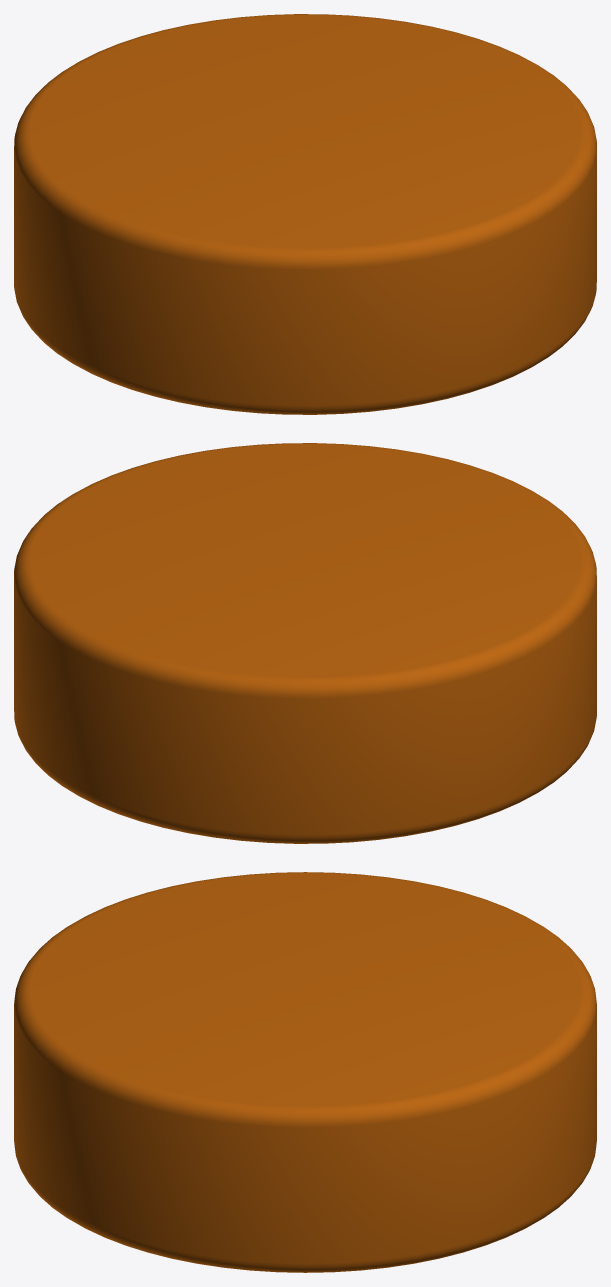
3 renders of one model, top to bottom at view 1: azimuth 30°, elevation 25°; view 2: azimuth 150°, elevation 25°; view 3: azimuth 270°, elevation 25°, orthographic.
Visible parts, largest first — view 1: dish; view 2: dish; view 3: dish.
Part boxes in pixels (x1,y1,x2,y2): dish: [14, 14, 596, 414]; dish: [14, 443, 596, 843]; dish: [14, 872, 596, 1272].
Size of the model in its own units: 0.09 by 0.0281 by 0.09.
